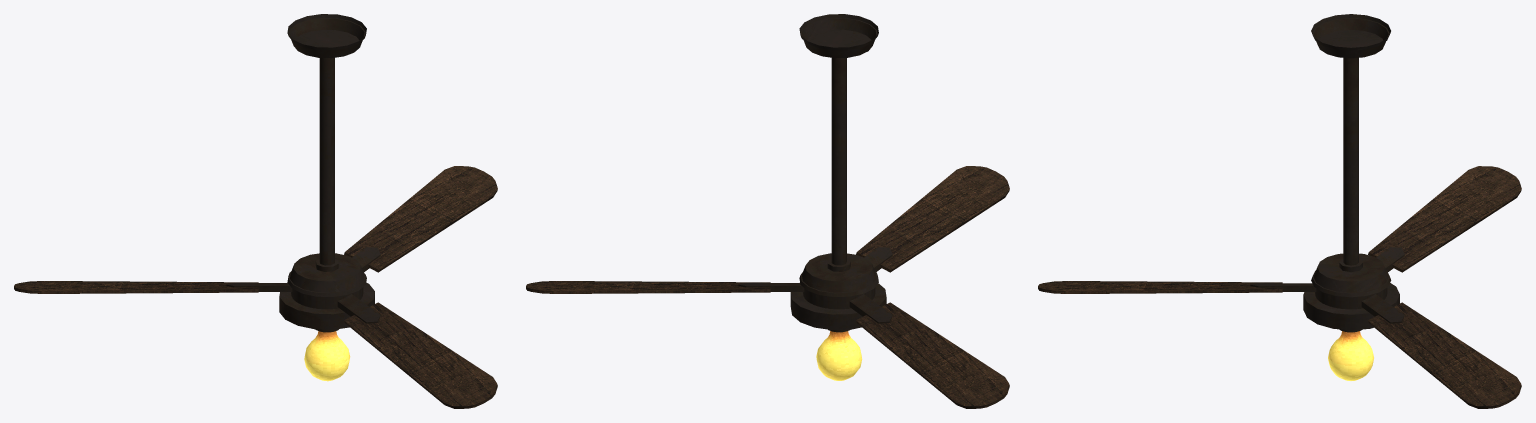
The model's file is ceiling_fan_mp_1_1_light_on.glb.
The picture shows the model from 3 angles, left to right: view 1: azimuth 30°, elevation 25°; view 2: azimuth 150°, elevation 25°; view 3: azimuth 270°, elevation 25°; orthographic projection.
Visible parts, largest first — view 1: ceiling_fan_mp_1_1_light_on_blades, ceiling_fan_mp_1_1_light_on; view 2: ceiling_fan_mp_1_1_light_on_blades, ceiling_fan_mp_1_1_light_on; view 3: ceiling_fan_mp_1_1_light_on_blades, ceiling_fan_mp_1_1_light_on.
Boxes of the visible parts, x1,y1,x2,y2 form: ceiling_fan_mp_1_1_light_on_blades: (14,166,497,408); ceiling_fan_mp_1_1_light_on: (279,14,374,381); ceiling_fan_mp_1_1_light_on_blades: (526,166,1009,408); ceiling_fan_mp_1_1_light_on: (790,14,886,380); ceiling_fan_mp_1_1_light_on_blades: (1038,166,1521,408); ceiling_fan_mp_1_1_light_on: (1303,14,1399,380).
Bounding box in the file's own units: 1.02 × 0.7128 × 0.8979.
3 materials, 3 textured.
